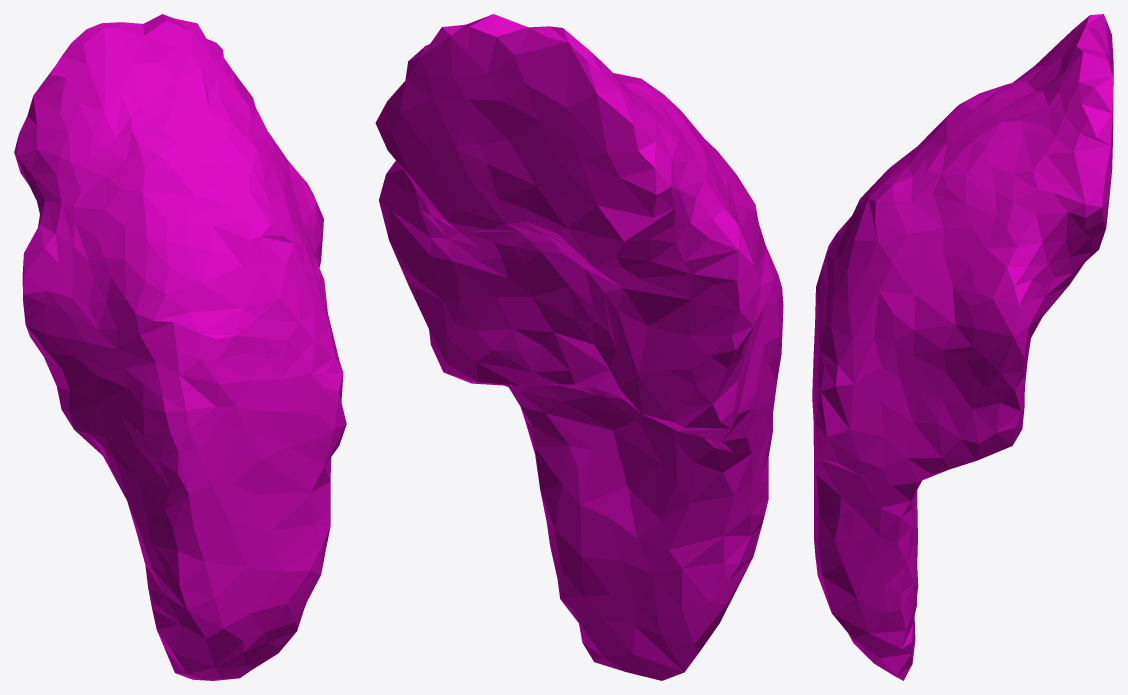
File: 200-10M-area 10 of cortex, medial part-('1.0000', '0.0000', '0.8824').obj
The picture shows the model from 3 angles, left to right: view 1: azimuth 30°, elevation 25°; view 2: azimuth 150°, elevation 25°; view 3: azimuth 270°, elevation 25°; orthographic projection. The views are drawn at different scales.
Size of the model in its own units: 55.89 by 104 by 44.7.
